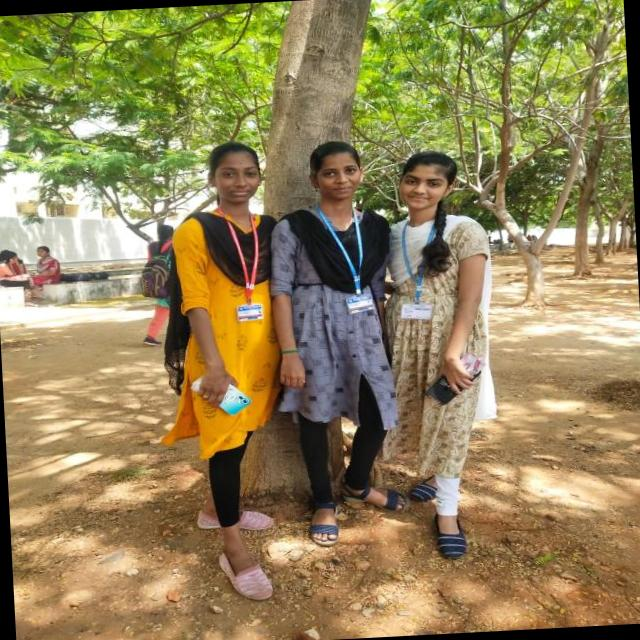id_card: (314, 198, 378, 313), (222, 202, 266, 320), (398, 206, 435, 325)
